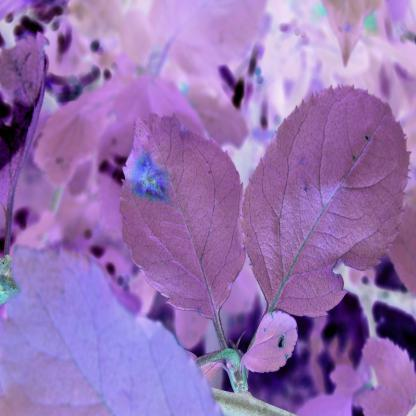Apple Scab Leaf: (120, 110, 256, 330)
